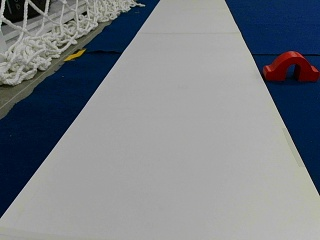bridge: (265, 51, 318, 80)
